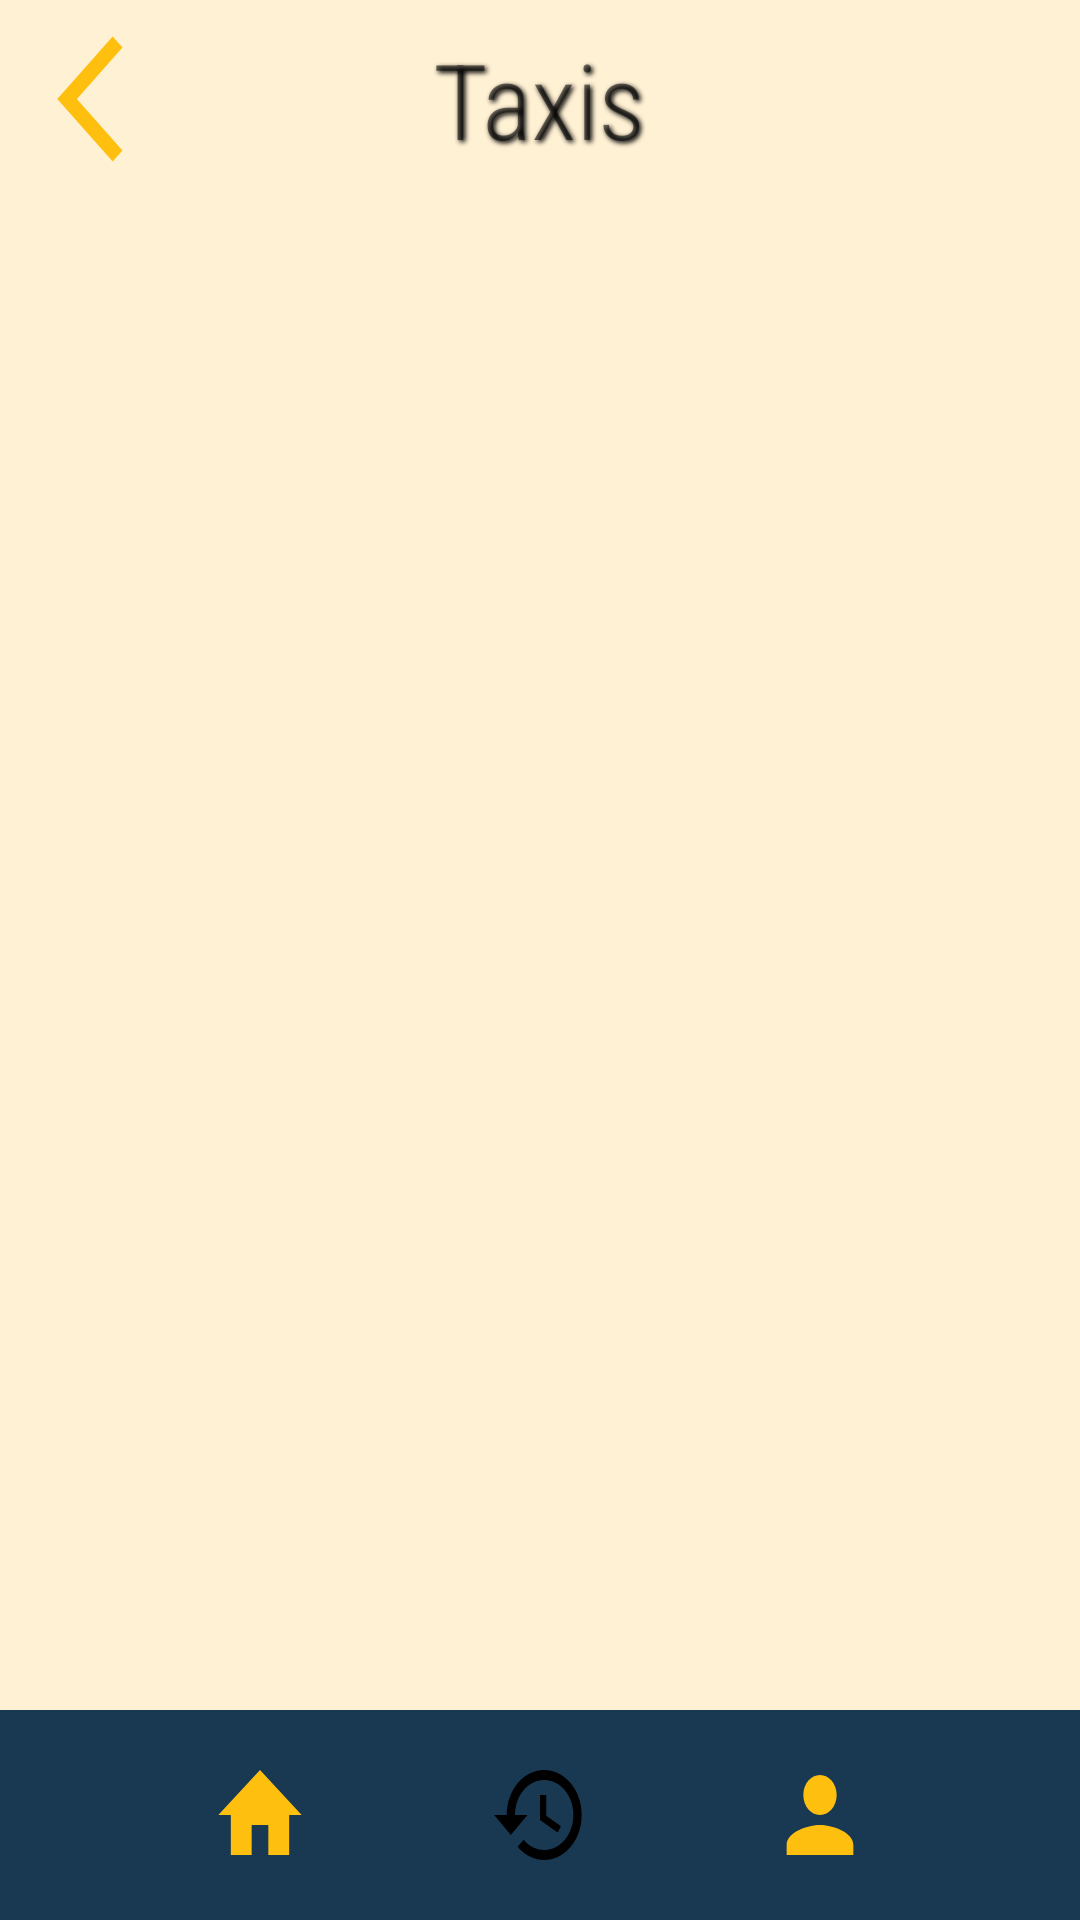

Icons on this 1080 × 1920 Android screen, each with its box as {"x1": x1, "y1": y1, "x2": x2, "y2": y2}:
go back: {"x1": 57, "y1": 36, "x2": 123, "y2": 162}
history: {"x1": 494, "y1": 1770, "x2": 582, "y2": 1860}
home: {"x1": 218, "y1": 1770, "x2": 302, "y2": 1855}
profile: {"x1": 786, "y1": 1775, "x2": 854, "y2": 1855}
